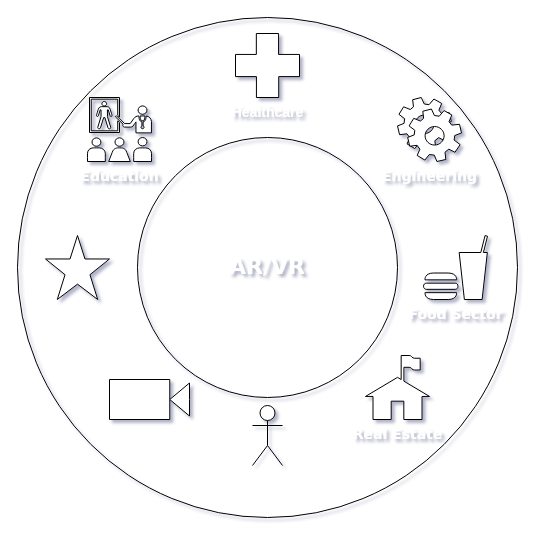
Image size: 541x541. Some labels were removed from this diagram. Here are the shapes that lost their labels. From the top down, the box of each, then its label:
(44, 234, 110, 300): Military
(108, 378, 190, 420): Entertainment
(252, 404, 282, 466): Social Science and Psychology
